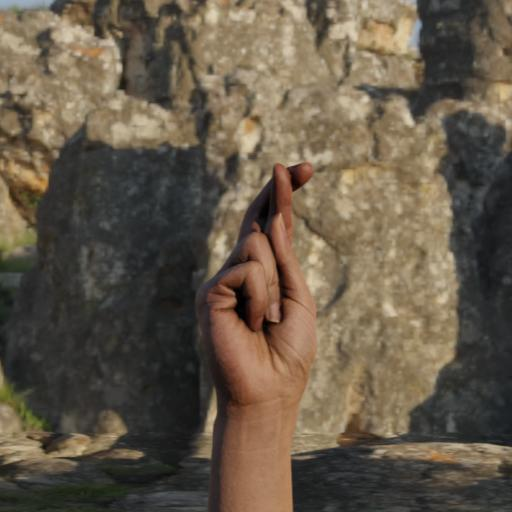R: (192, 159, 329, 413)
